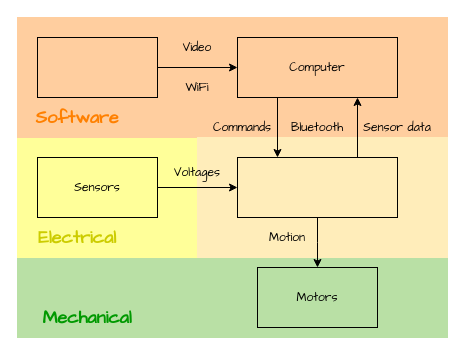
Image size: 465x355. Some labels were removed from this diagram. Each missing label, with the box of its shape:
Arduino: (236, 156, 398, 218)
Overhead camera: (36, 36, 158, 98)
